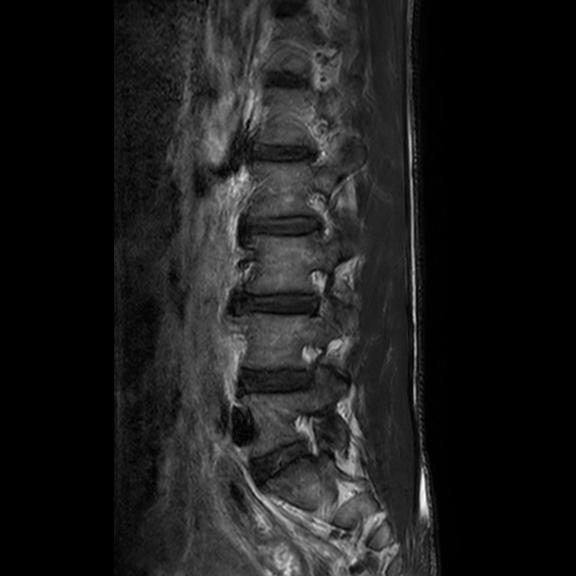LFS0: (286, 400, 329, 468)
